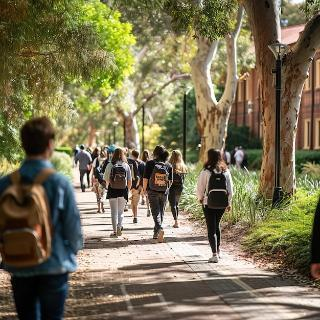person - v3 P: (2, 173, 82, 319), (197, 149, 233, 262), (143, 146, 172, 242), (104, 148, 131, 238), (169, 150, 187, 227), (130, 150, 145, 223), (76, 145, 92, 191), (311, 201, 319, 278), (142, 195, 151, 216)
